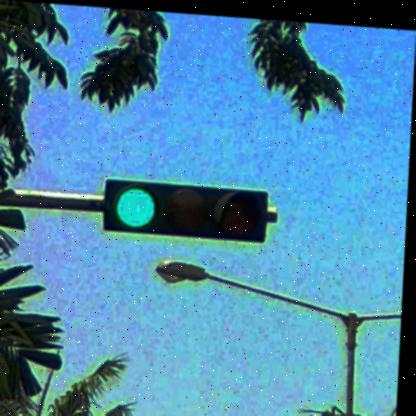Traffic Light -Green-: (105, 178, 272, 236)
